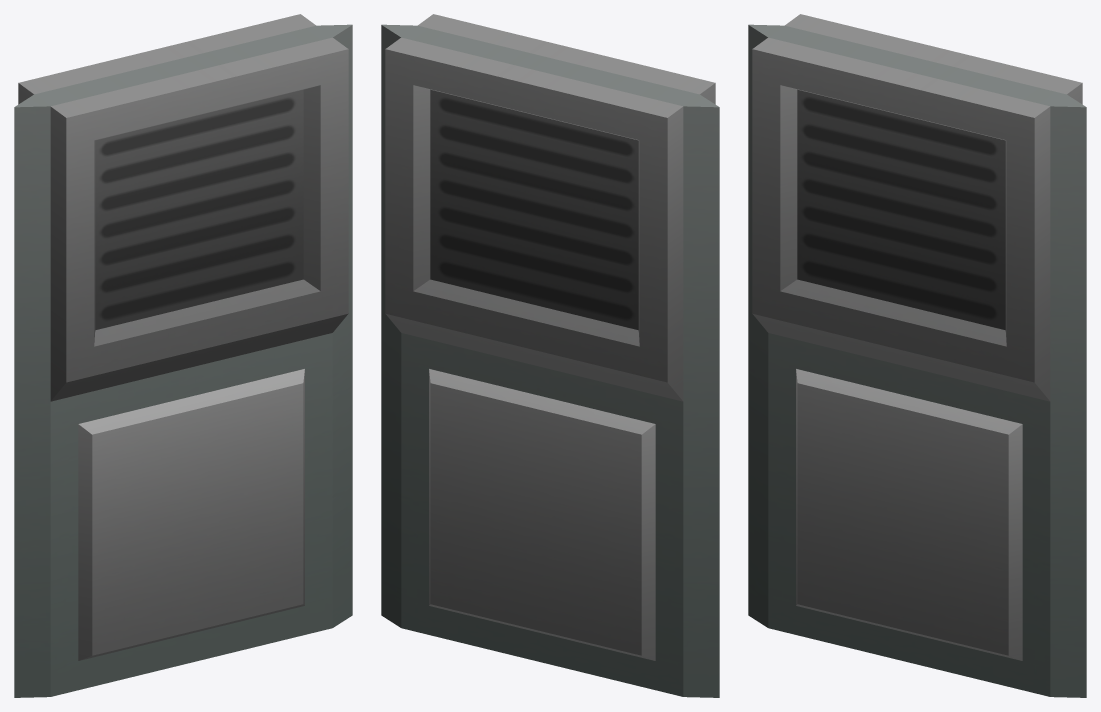
The model's file is door.fbx.
The picture shows the model from 3 angles, left to right: view 1: azimuth 30°, elevation 25°; view 2: azimuth 150°, elevation 25°; view 3: azimuth 330°, elevation 25°; orthographic projection.
Visible parts, largest first — view 1: Cube; view 2: Cube; view 3: Cube.
Part boxes in pixels (left/top/right/bottom): Cube: left=14, top=14, right=352, bottom=697; Cube: left=381, top=14, right=719, bottom=697; Cube: left=748, top=14, right=1086, bottom=697.
Size of the model in its own units: 240 by 400 by 58.94.
